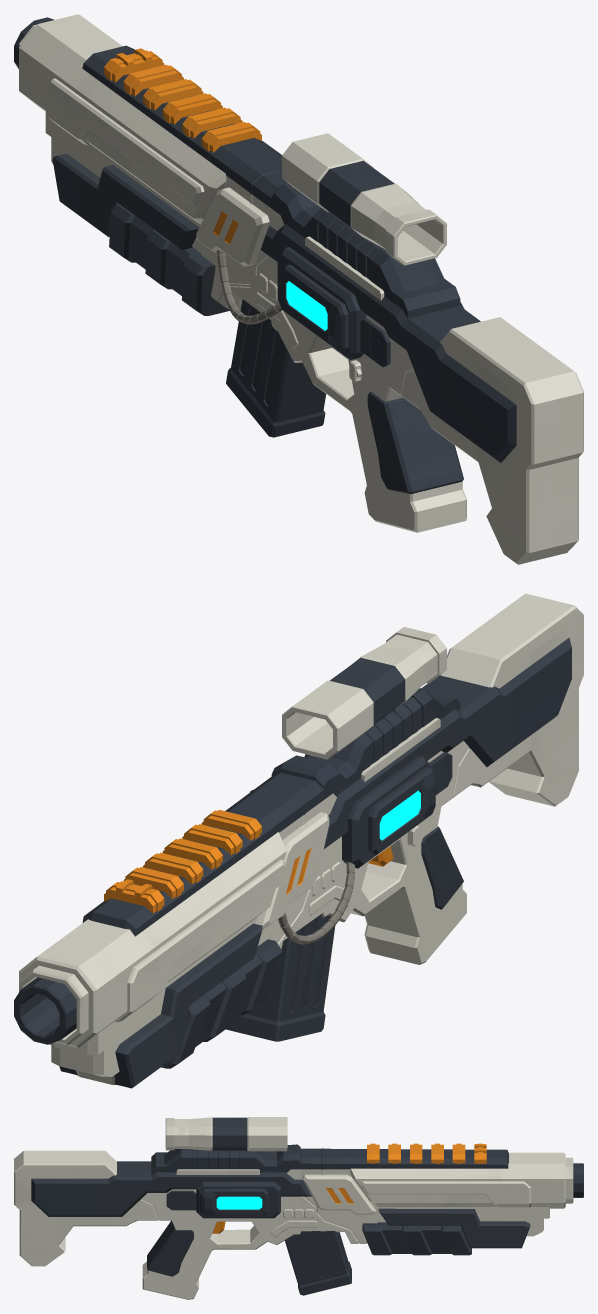
Rendered from weapon_blaster.fbx.
3 renders of one model, top to bottom at view 1: azimuth 30°, elevation 25°; view 2: azimuth 150°, elevation 25°; view 3: azimuth 270°, elevation 25°, orthographic. The views are drawn at different scales.
Visible parts, largest first — view 1: Plane.007, Plane.005, Cube.003, Cube.008, Cube.010, Cube.001, Plane.001, Cube.002, Plane.003, Plane.006, Plane.002, Plane.009 (+5 smaller); view 2: Plane.007, Cube.003, Plane.005, Cube.008, Plane.001, Cube.010, Cube.001, Plane.006, Plane.003, Cube.002, Plane.002, Cylinder (+5 smaller); view 3: Plane.007, Cube.003, Plane.005, Cube.008, Cube.010, Plane.001, Cube.002, Plane.003, Plane.006, Plane.002, Plane.009, Cube.001 (+7 smaller).
Part boxes in pixels (left/top/right/bottom): Plane.007: left=45, top=45, right=583, bottom=564; Plane.005: left=261, top=224, right=516, bottom=462; Cube.003: left=19, top=14, right=226, bottom=224; Cube.008: left=282, top=133, right=446, bottom=265; Cube.010: left=226, top=299, right=326, bottom=437; Cube.001: left=104, top=48, right=261, bottom=152; Plane.001: left=52, top=153, right=199, bottom=249; Cube.002: left=109, top=202, right=229, bottom=315; Plane.003: left=46, top=78, right=204, bottom=205; Plane.006: left=277, top=247, right=366, bottom=359; Plane.002: left=196, top=187, right=269, bottom=266; Plane.009: left=304, top=208, right=390, bottom=287; Plane.007: left=49, top=593, right=583, bottom=1084; Cube.003: left=19, top=832, right=286, bottom=1047; Plane.005: left=324, top=637, right=571, bottom=848; Cube.008: left=282, top=627, right=446, bottom=759; Plane.001: left=59, top=923, right=262, bottom=1088; Cube.010: left=226, top=913, right=335, bottom=1041; Cube.001: left=104, top=809, right=261, bottom=913; Plane.006: left=342, top=755, right=435, bottom=868; Plane.003: left=115, top=859, right=284, bottom=1022; Cube.002: left=161, top=939, right=282, bottom=1068; Plane.002: left=255, top=812, right=329, bottom=929; Cylinder: left=14, top=977, right=76, bottom=1044; Plane.007: left=14, top=1144, right=549, bottom=1299; Cube.003: left=350, top=1152, right=573, bottom=1208; Plane.005: left=31, top=1161, right=311, bottom=1216; Cube.008: left=165, top=1117, right=287, bottom=1151; Cube.010: left=285, top=1231, right=351, bottom=1295; Plane.001: left=378, top=1208, right=530, bottom=1248; Cube.002: left=362, top=1222, right=471, bottom=1255; Plane.003: left=361, top=1181, right=530, bottom=1207; Plane.006: left=196, top=1181, right=280, bottom=1218; Plane.002: left=302, top=1174, right=375, bottom=1214; Plane.009: left=181, top=1149, right=265, bottom=1169; Cube.001: left=367, top=1143, right=486, bottom=1163.
Size of the model in its own units: 0.2675 by 2.4 by 0.7981.
2 materials, 1 textured.
